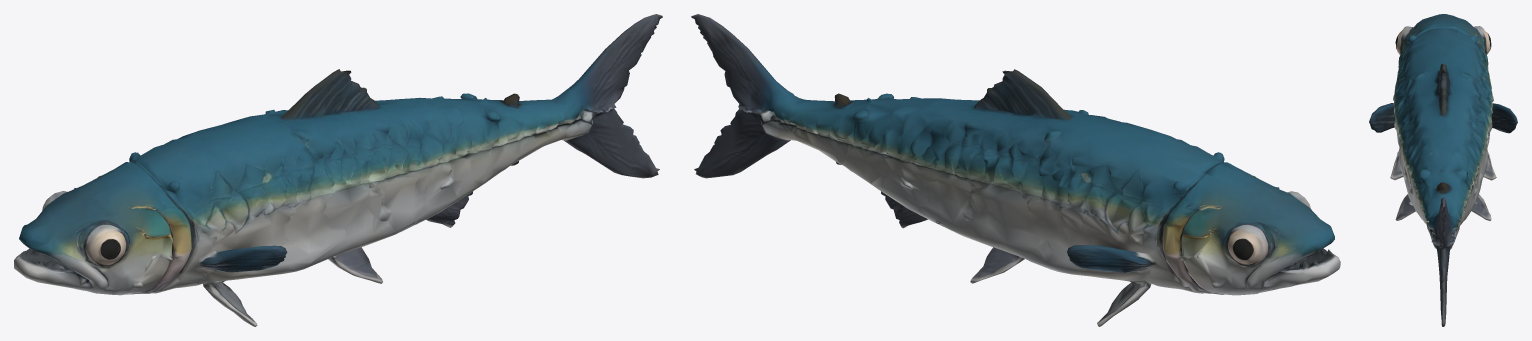
File: fish-stavrida.glb
3 renders of one model, left to right at view 1: azimuth 30°, elevation 25°; view 2: azimuth 150°, elevation 25°; view 3: azimuth 270°, elevation 25°, orthographic. The views are drawn at different scales.
Parts seen in each view (by area): view 1: tripo_node_499e48c8-dd7c-4af4-941c-c99415f33d8f; view 2: tripo_node_499e48c8-dd7c-4af4-941c-c99415f33d8f; view 3: tripo_node_499e48c8-dd7c-4af4-941c-c99415f33d8f.
Part boxes in pixels (x1=…): tripo_node_499e48c8-dd7c-4af4-941c-c99415f33d8f: x1=14, y1=14, x2=662, y2=326; tripo_node_499e48c8-dd7c-4af4-941c-c99415f33d8f: x1=691, y1=14, x2=1340, y2=326; tripo_node_499e48c8-dd7c-4af4-941c-c99415f33d8f: x1=1369, y1=14, x2=1517, y2=326.
Size of the model in its own units: 1 by 0.3055 by 0.2575.
Materials: 1 (1 with a texture image).
